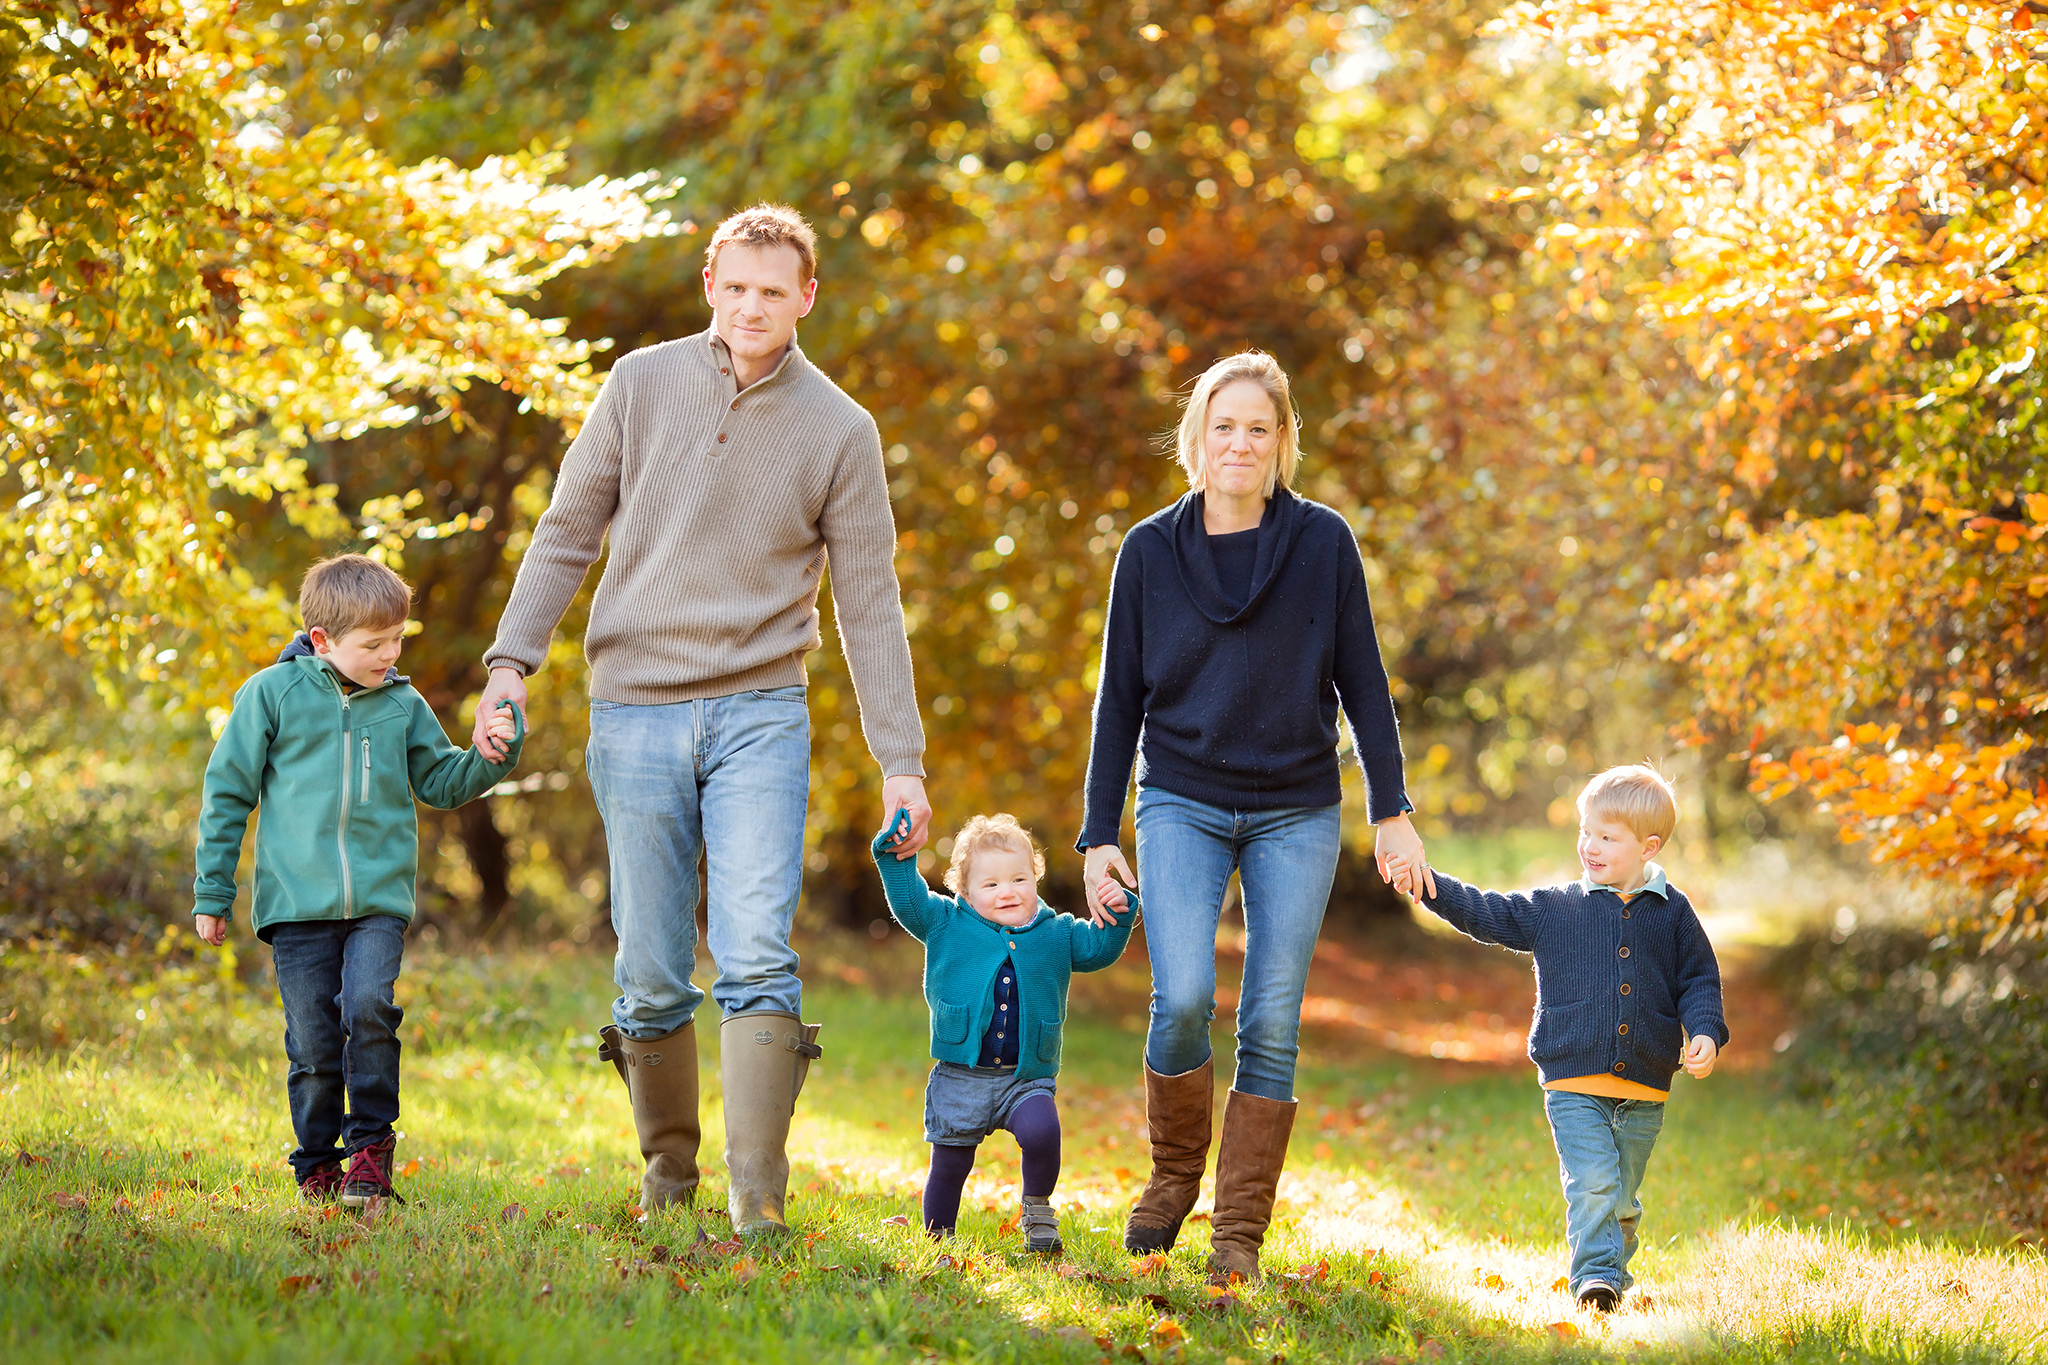Person: (544, 212, 884, 1212), (1124, 332, 1404, 1302), (224, 542, 504, 1212), (1454, 722, 1724, 1232), (894, 802, 1094, 1272)
